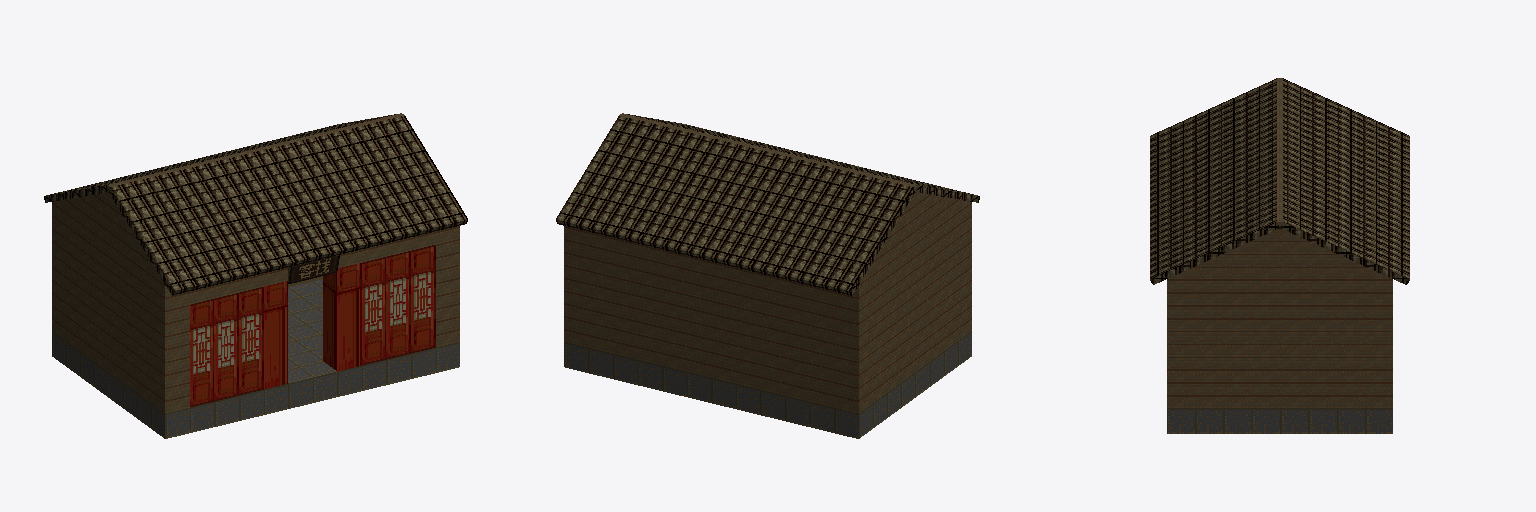
3 views of the same model, side by side, from view 1: azimuth 30°, elevation 25°; view 2: azimuth 150°, elevation 25°; view 3: azimuth 270°, elevation 25° (orthographic).
Parts seen in each view (by area): view 1: Mesh10 ___7_1 Model, Mesh14 Model, Mesh1 ___1_1 Model, Mesh4 ___2_2 Model, Mesh2 ___2_1 Model, Mesh8 ___5_1 Model, Mesh6 ___3_2 Model, Mesh9 ___6_1 Model, Mesh3 ___3_1 Model, Mesh5 ___1_2 Model, Mesh11 ___7_2 Model, Mesh7 ___4_1 Model (+2 smaller); view 2: Mesh11 ___7_2 Model, Mesh7 ___4_1 Model, Mesh14 Model, Mesh1 ___1_1 Model, Mesh8 ___5_1 Model, Mesh9 ___6_1 Model, Mesh10 ___7_1 Model, Mesh12 ___8_1 Model; view 3: Mesh5 ___1_2 Model, Mesh10 ___7_1 Model, Mesh11 ___7_2 Model, Mesh8 ___5_1 Model, Mesh14 Model, Mesh9 ___6_1 Model, Mesh7 ___4_1 Model, Mesh12 ___8_1 Model.
Boxes of the visible parts, x1=… form: Mesh10 ___7_1 Model: x1=109, y1=116, x2=467, y2=295; Mesh14 Model: x1=52, y1=278, x2=459, y2=438; Mesh1 ___1_1 Model: x1=66, y1=238, x2=189, y2=412; Mesh4 ___2_2 Model: x1=362, y1=245, x2=435, y2=364; Mesh2 ___2_1 Model: x1=190, y1=287, x2=263, y2=406; Mesh8 ___5_1 Model: x1=52, y1=202, x2=459, y2=310; Mesh6 ___3_2 Model: x1=323, y1=263, x2=361, y2=371; Mesh9 ___6_1 Model: x1=53, y1=192, x2=163, y2=283; Mesh3 ___3_1 Model: x1=264, y1=281, x2=287, y2=388; Mesh5 ___1_2 Model: x1=436, y1=239, x2=459, y2=346; Mesh11 ___7_2 Model: x1=44, y1=114, x2=395, y2=202; Mesh7 ___4_1 Model: x1=52, y1=228, x2=322, y2=339; Mesh11 ___7_2 Model: x1=556, y1=116, x2=914, y2=295; Mesh7 ___4_1 Model: x1=564, y1=239, x2=872, y2=412; Mesh14 Model: x1=564, y1=331, x2=971, y2=438; Mesh1 ___1_1 Model: x1=873, y1=228, x2=971, y2=402; Mesh8 ___5_1 Model: x1=564, y1=202, x2=971, y2=310; Mesh9 ___6_1 Model: x1=860, y1=192, x2=970, y2=283; Mesh10 ___7_1 Model: x1=628, y1=114, x2=979, y2=202; Mesh12 ___8_1 Model: x1=619, y1=113, x2=916, y2=191; Mesh5 ___1_2 Model: x1=1167, y1=305, x2=1364, y2=407; Mesh10 ___7_1 Model: x1=1150, y1=78, x2=1279, y2=284; Mesh11 ___7_2 Model: x1=1280, y1=78, x2=1409, y2=284; Mesh8 ___5_1 Model: x1=1167, y1=279, x2=1392, y2=304; Mesh14 Model: x1=1167, y1=408, x2=1392, y2=433; Mesh9 ___6_1 Model: x1=1168, y1=228, x2=1391, y2=278; Mesh7 ___4_1 Model: x1=1365, y1=305, x2=1392, y2=407; Mesh12 ___8_1 Model: x1=1277, y1=78, x2=1282, y2=226.
Bounding box in the file's own units: 12 × 8.22 × 9.17.
6 materials, 6 textured.